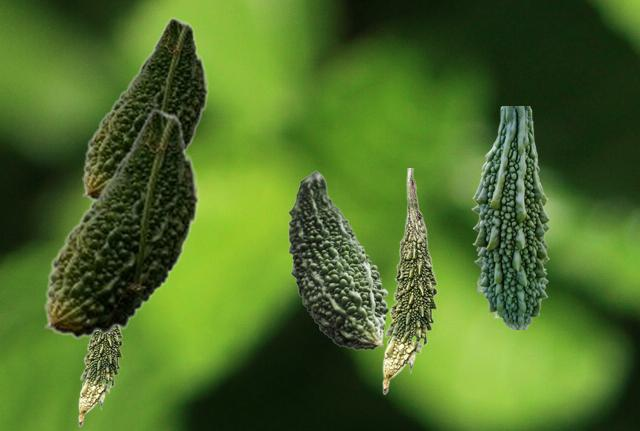ampalaya: (44, 108, 199, 338), (82, 17, 208, 200), (288, 170, 388, 349), (471, 106, 549, 328), (382, 168, 437, 394), (78, 328, 122, 426)
